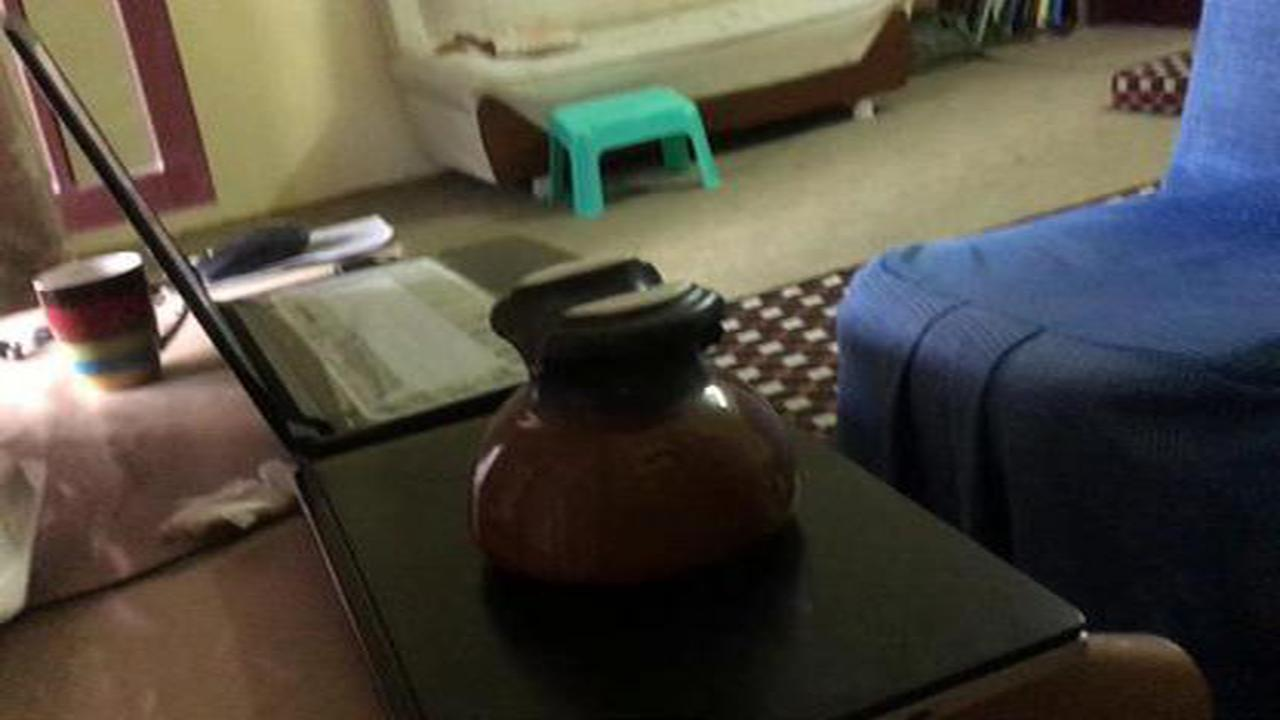insulator_pin: (449, 246, 813, 610)
